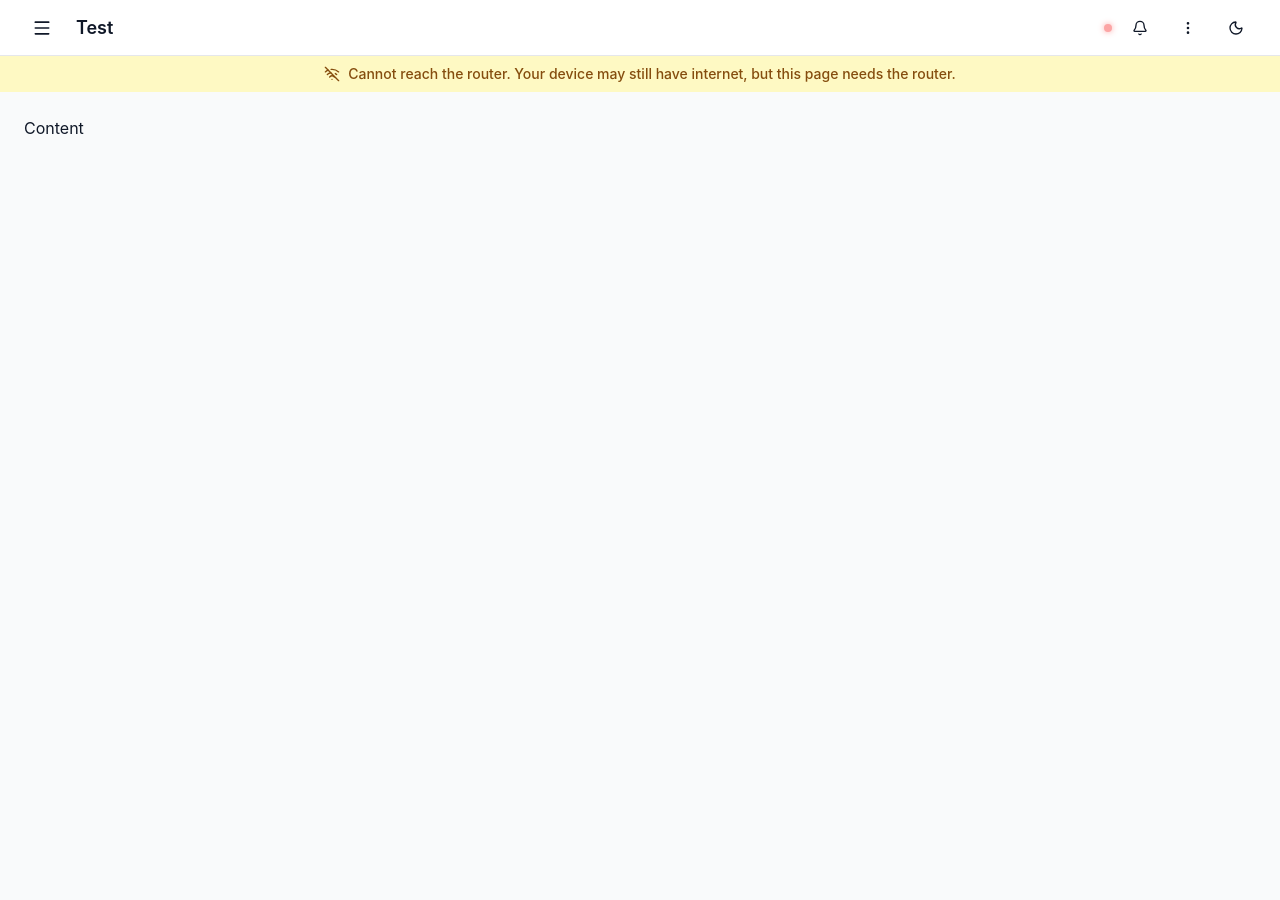
Test: Mobile Sidebar › closes drawer when navigation link is clicked
Step 1. Click the button named "Open menu" → [42, 28], box [20,12,64,44]
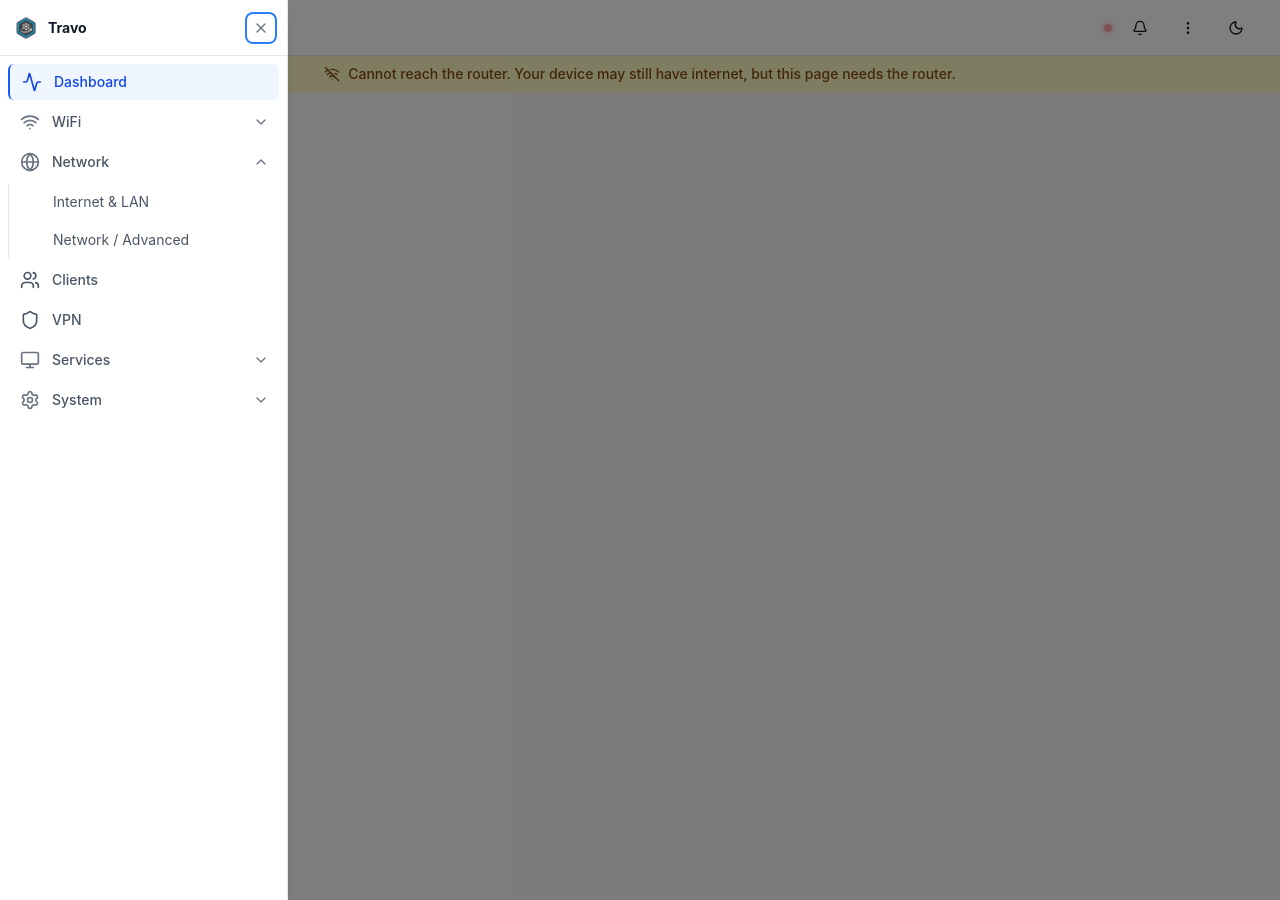
Check: the dialog is shown, box [0,0,288,899]
Step 2. Click the link "WiFi" → [51, 122], box [20,112,81,132]
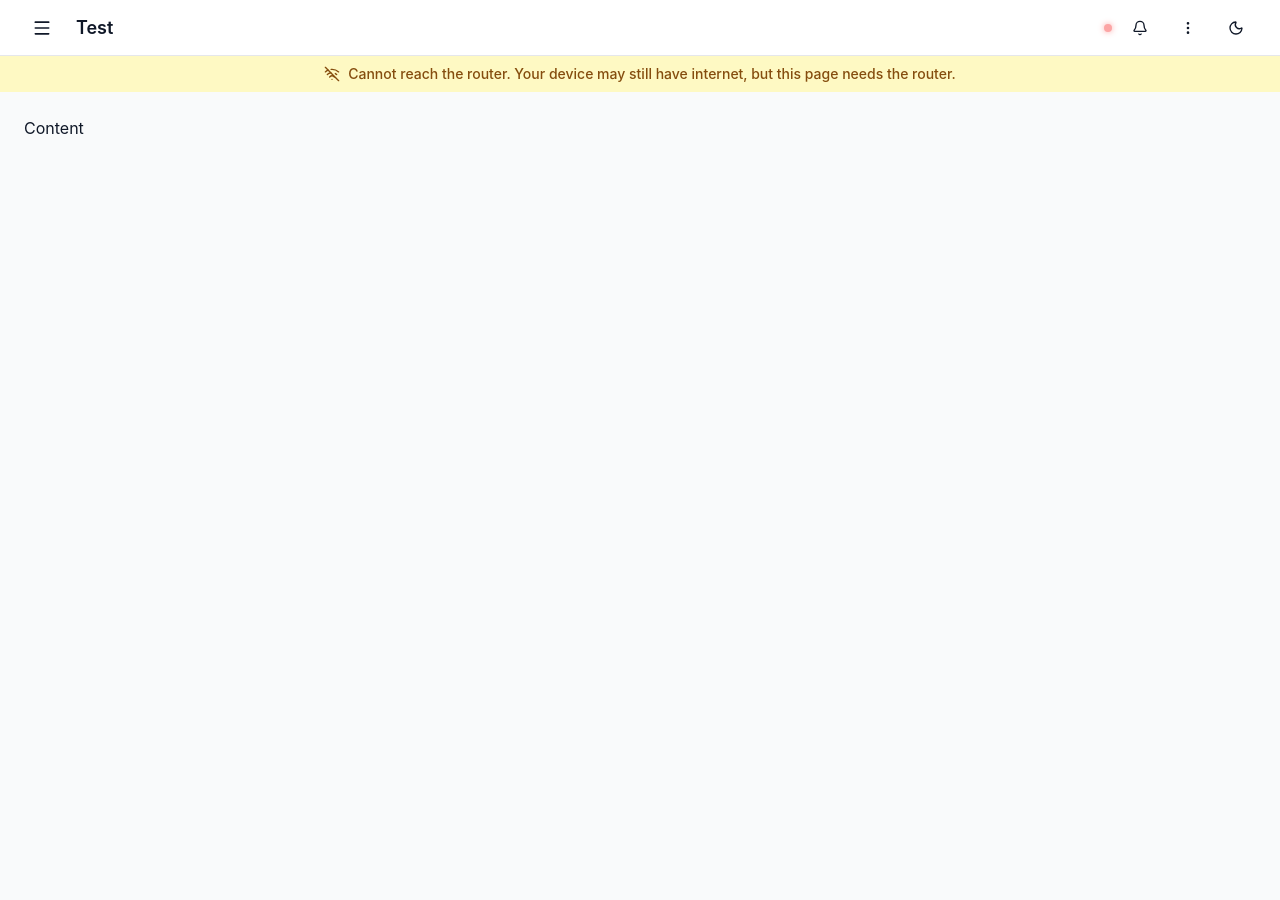
Check: the dialog is gone
